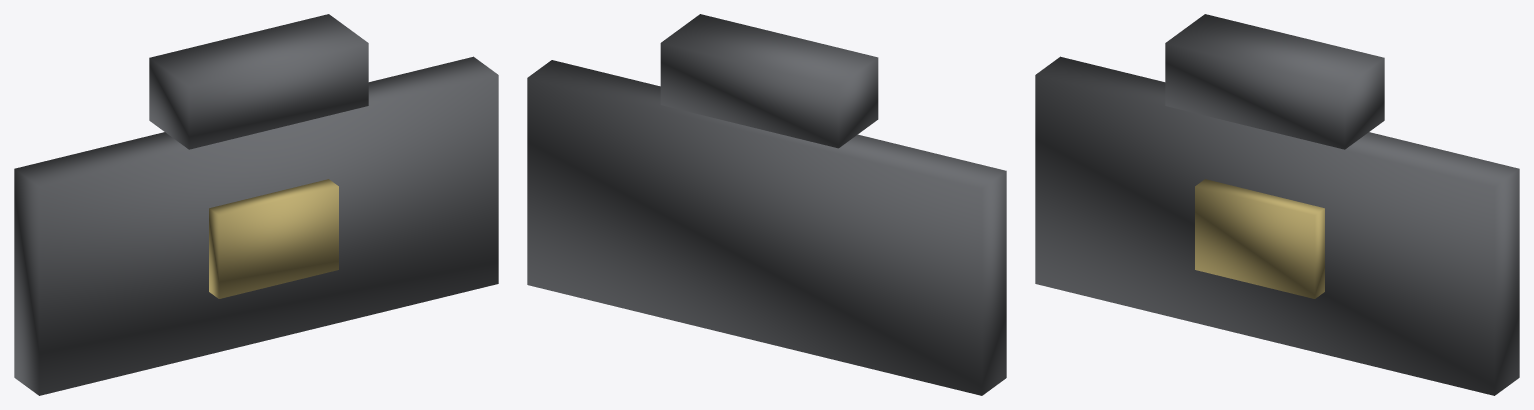
Rendered from floor_indicator_03.glb.
3 views of the same model, side by side, from view 1: azimuth 30°, elevation 25°; view 2: azimuth 150°, elevation 25°; view 3: azimuth 330°, elevation 25° (orthographic).
Visible parts, largest first — view 1: world; view 2: world; view 3: world.
Boxes of the visible parts, x1,y1,x2,y2 form: world: [14, 14, 498, 395]; world: [527, 14, 1006, 395]; world: [1035, 14, 1519, 395].
Bounding box in the file's own units: 0.4784 × 0.2808 × 0.072.
